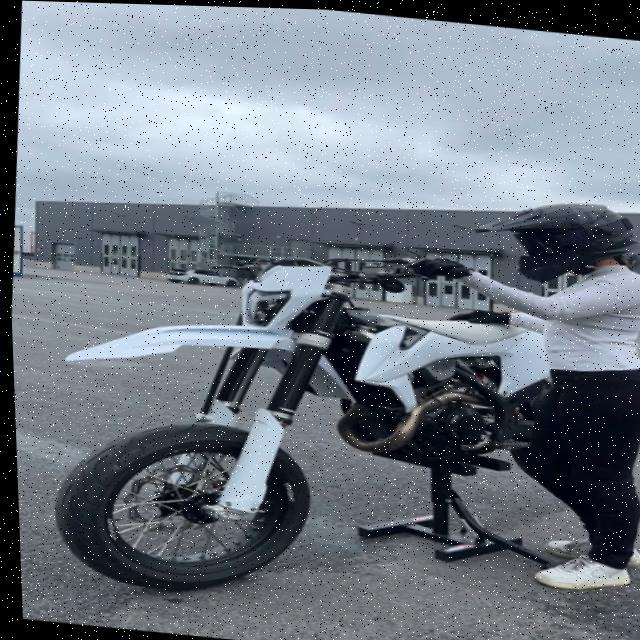illegal_helmet: (457, 184, 640, 291)
